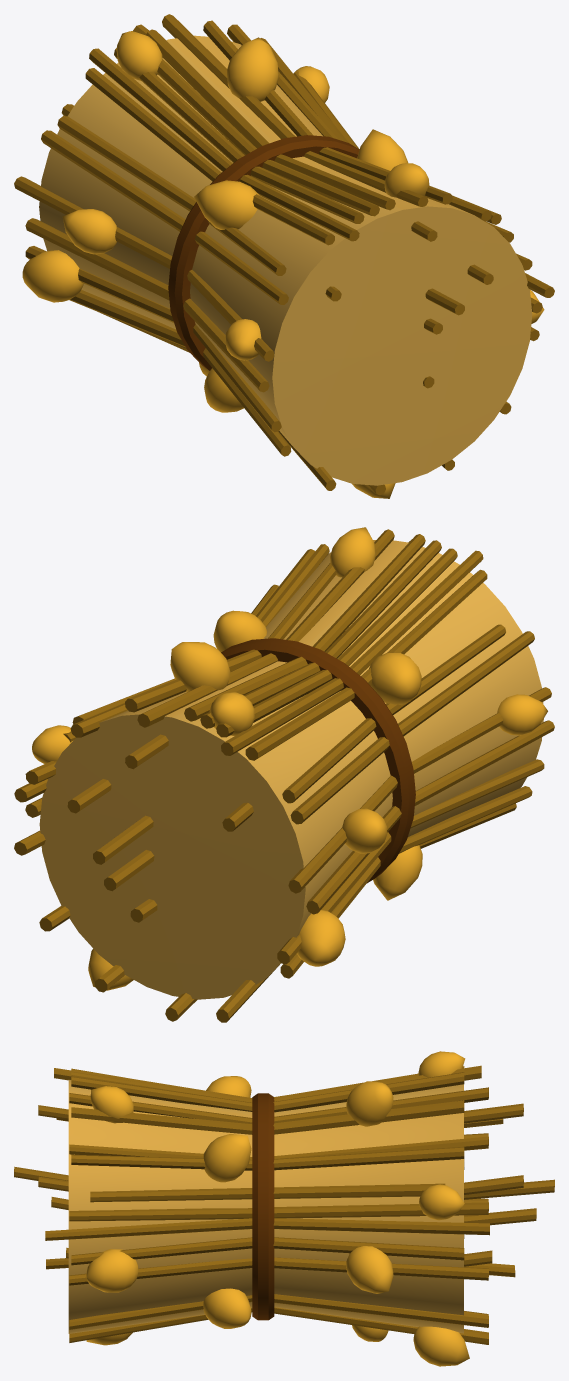
Rendered from grain_collected.fbx.
3 views of the same model, one above another, from view 1: azimuth 30°, elevation 25°; view 2: azimuth 150°, elevation 25°; view 3: azimuth 270°, elevation 25° (orthographic). The views are drawn at different scales.
Visible parts, largest first — view 1: grain_collected; view 2: grain_collected; view 3: grain_collected.
Boxes of the visible parts, bbox=[...] form: grain_collected: bbox=[14, 14, 554, 498]; grain_collected: bbox=[14, 527, 554, 1022]; grain_collected: bbox=[14, 1051, 554, 1366].
Size of the model in its own units: 123 by 123 by 217.
